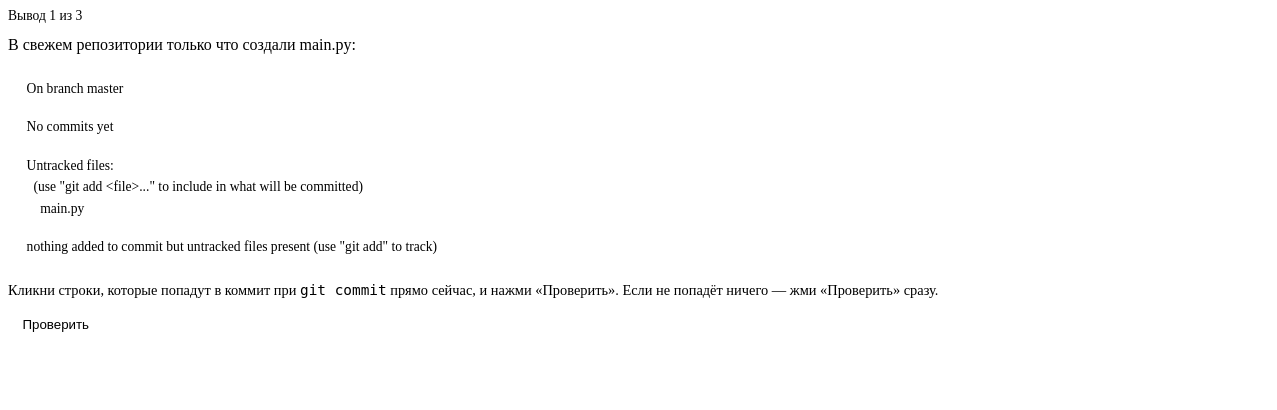
wrong pick shows explanation and highlights the wrongly picked line
What coordinates should you click on to do the following:
click the button "main.py"
I would click on:
 (62, 208)
Its box is [20, 198, 1260, 219].
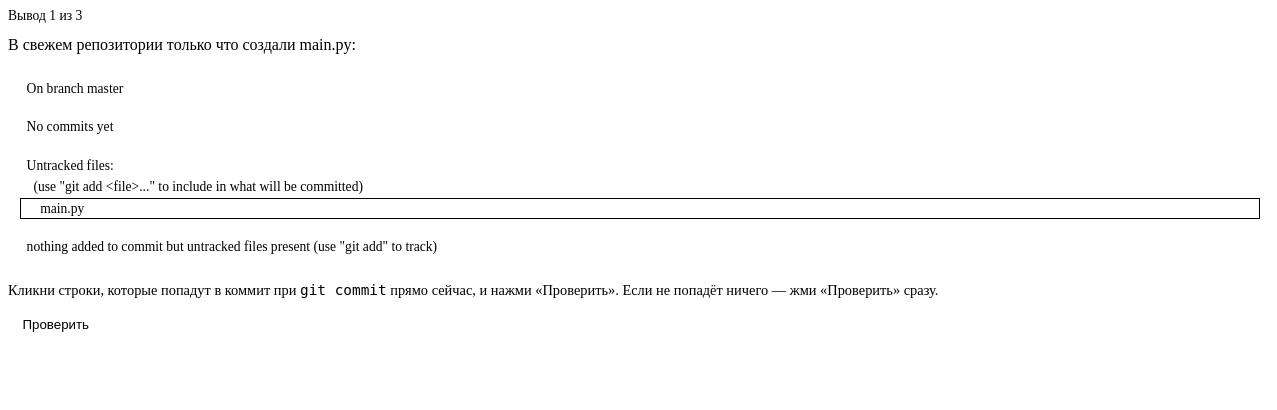
What coordinates should you click on to do the following:
click the button "Проверить"
I would click on:
 (56, 324)
Its box is [8, 311, 103, 337].
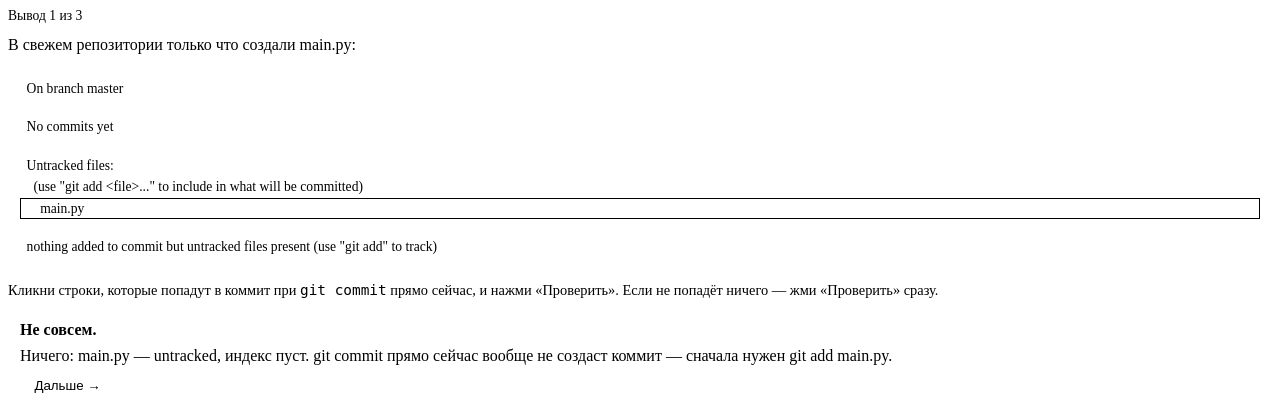
Expected: the button "main.py" is disabled, [20, 198, 1260, 219]
Expected: the text "Не совсем." is shown, [20, 320, 96, 338]
Expected: the text "индекс пуст" is shown, [20, 346, 892, 364]
